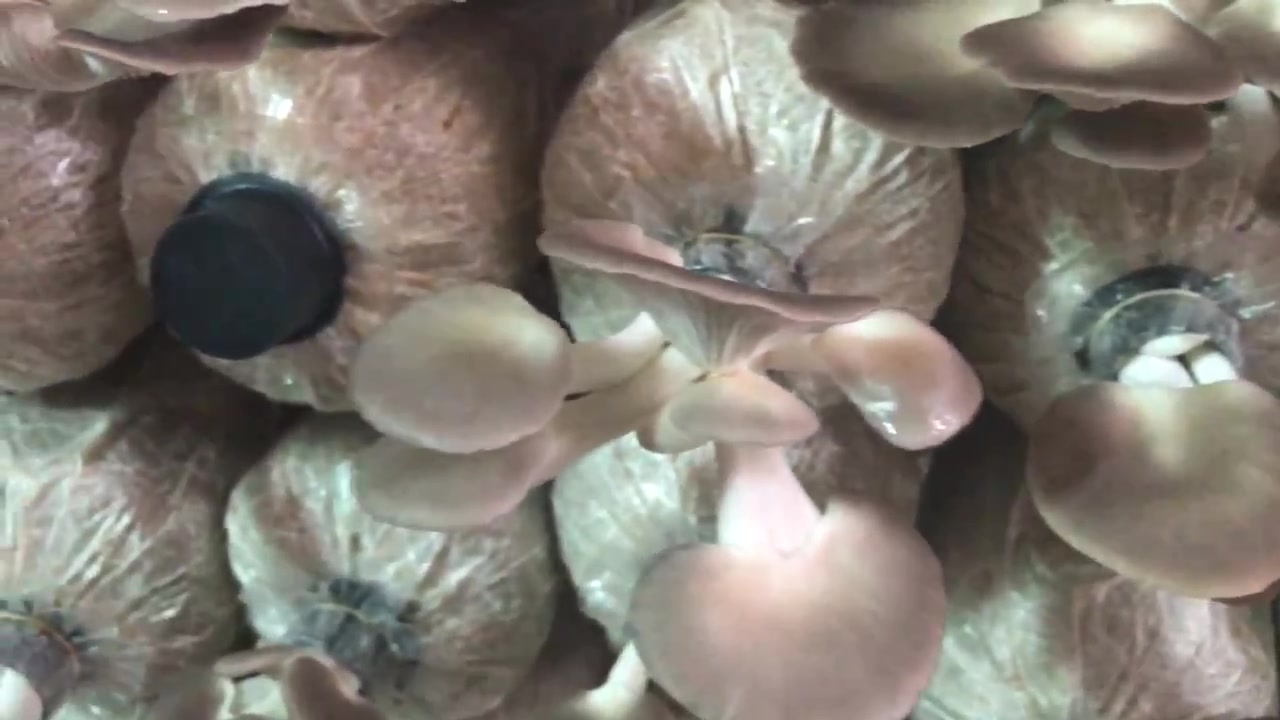nam: (346, 207, 987, 720), (1025, 268, 1280, 600), (791, 1, 1280, 173)
